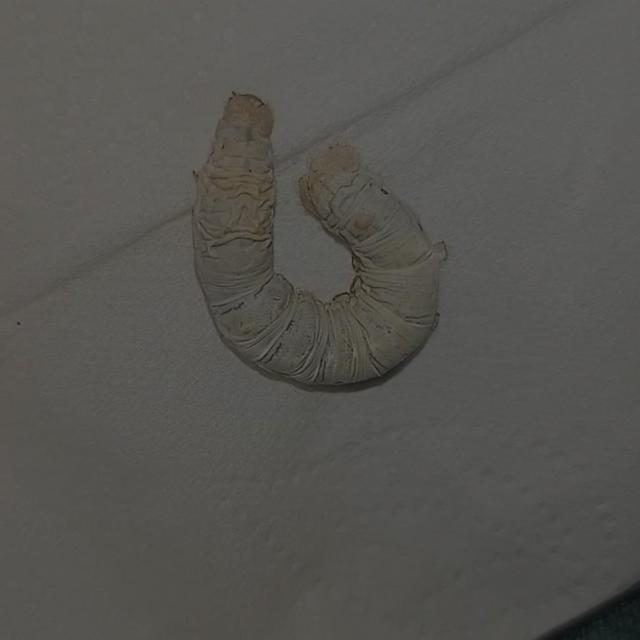Healthy: (173, 60, 466, 408)
